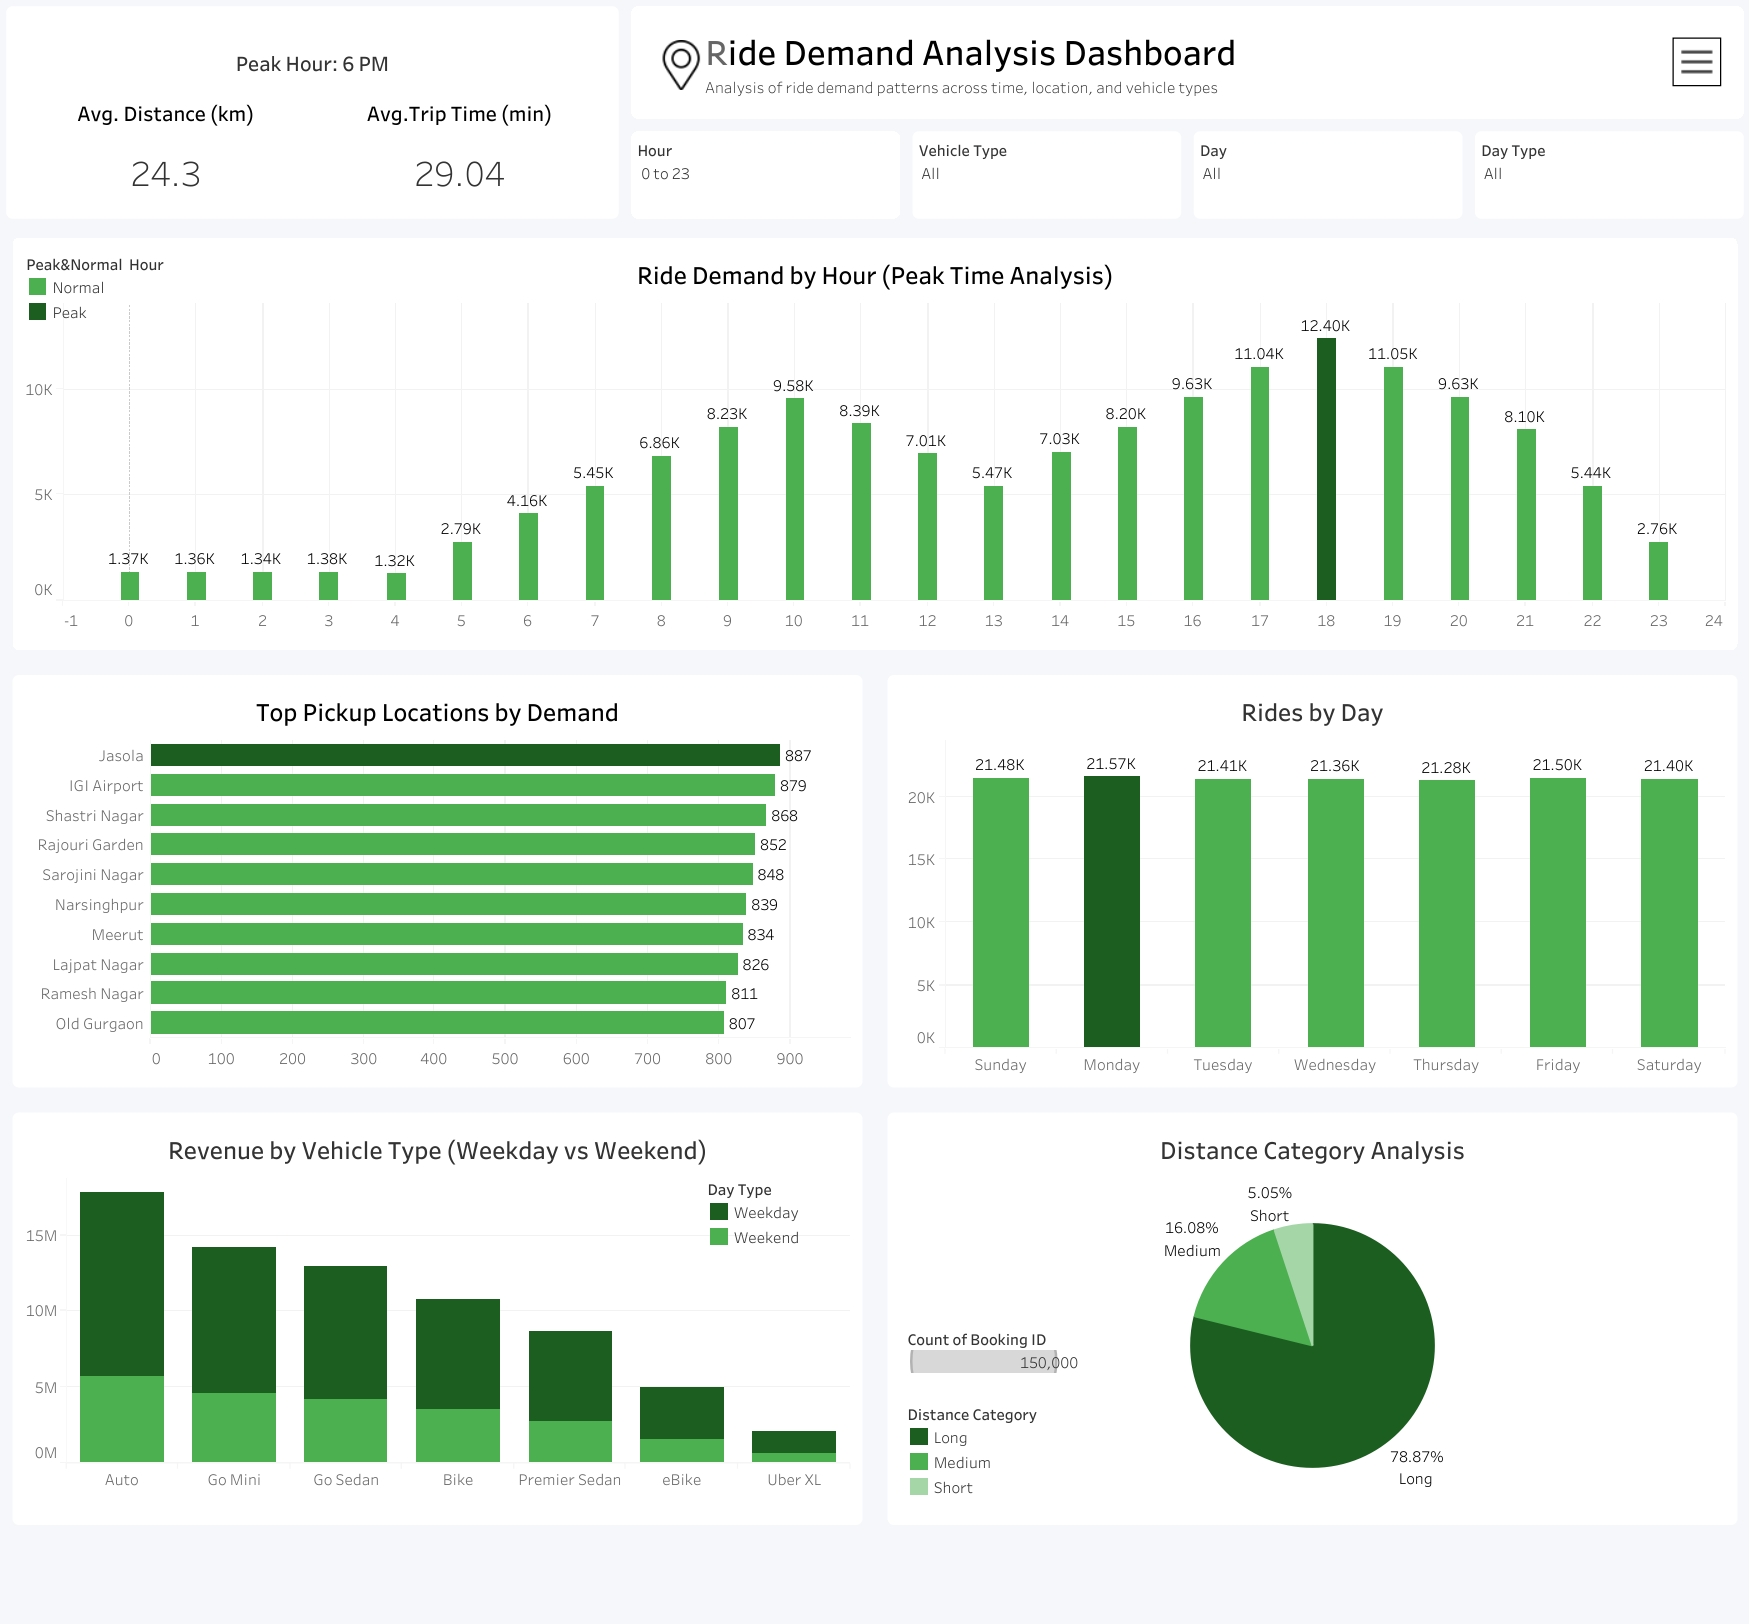

The dashboard page shown, as its layout file describes it:
{"tool":"tableau","page":{"name":"Ride Demand Analysis-D2","canvas":[1400,1300],"ordinal":2},"visuals":[{"type":"worksheet","title":"Dashboard2-KPIs","mark":"Automatic","cols":["Calculation_0510229824184323"],"box":[0,0,500,180]},{"type":"text","box":[500,0,900,100]},{"type":"image","param":"Image/pin.png","box":[520,27,50,50]},{"type":"dashboard-object","box":[1335,27,45,45]},{"type":"dashboard-object","box":[961,33,65,63]},{"type":"dashboard-object","box":[1026,33,303,63]},{"type":"dashboard-object","box":[961,96,65,62]},{"type":"dashboard-object","box":[1026,96,303,62]},{"type":"filter","title":"Rides by Hour-D2","param":"[federated.0se9qb00quoxq71br9lkd1jezced].[none:Hour:qk]","box":[500,100,225,80]},{"type":"filter","title":"Top Pickup Locations by Demand-D2","param":"[federated.0se9qb00quoxq71br9lkd1jezced].[none:Vehicle Type:nk]","box":[725,100,225,80]},{"type":"filter","title":"Rides by Day-D2","param":"[federated.0se9qb00quoxq71br9lkd1jezced].[none:Day:nk]","box":[950,100,225,80]},{"type":"filter","title":"Revenue by Vehicle Type (Weekday vs Weekend)-D2","param":"[federated.0se9qb00quoxq71br9lkd1jezced].[none:Day Type:nk]","box":[1175,100,225,80]},{"type":"dashboard-object","box":[961,158,65,62]},{"type":"dashboard-object","box":[1026,158,303,62]},{"type":"worksheet","title":"Rides by Hour-D2","mark":"Bar","rows":["Booking ID"],"cols":["Hour"],"box":[0,180,1400,350]},{"type":"legend","title":"Rides by Hour-D2","param":"[federated.0se9qb00quoxq71br9lkd1jezced].[none:Calculation_0510229820293122:nk]","box":[20,200,168,65]},{"type":"worksheet","title":"Top Pickup Locations by Demand-D2","mark":"Automatic","rows":["Pickup Location"],"cols":["Booking ID"],"box":[0,530,700,350]},{"type":"worksheet","title":"Rides by Day-D2","mark":"Bar","rows":["Booking ID"],"cols":["Day"],"box":[700,530,700,350]},{"type":"worksheet","title":"Revenue by Vehicle Type (Weekday vs Weekend)-D2","mark":"Automatic","rows":["Revenue (INR)"],"cols":["Vehicle Type"],"box":[0,880,700,350]},{"type":"worksheet","title":"Distance Category Analysis-D2","mark":"Pie","box":[700,880,700,350]},{"type":"legend","title":"Revenue by Vehicle Type (Weekday vs Weekend)-D2","param":"[federated.0se9qb00quoxq71br9lkd1jezced].[none:Day Type:nk]","box":[565,940,110,65]},{"type":"legend","title":"Distance Category Analysis-D2","param":"[federated.0se9qb00quoxq71br9lkd1jezced].[cnt:Booking ID:qk]","box":[725,1060,140,45]},{"type":"legend","title":"Distance Category Analysis-D2","param":"[federated.0se9qb00quoxq71br9lkd1jezced].[none:Distance Category:nk]","box":[725,1120,140,85]}]}

Visuals, with their boxes in screenshot pixels (x1, y1, x2, y2), scaled from the page's 1400x1300 canvas onto the 1749x1624 screenshot:
"Dashboard2-KPIs" worksheet: [x1=0, y1=0, x2=625, y2=225]
text: [x1=625, y1=0, x2=1748, y2=125]
image: [x1=650, y1=34, x2=712, y2=96]
dashboard-object: [x1=1668, y1=34, x2=1724, y2=90]
dashboard-object: [x1=1201, y1=41, x2=1282, y2=120]
dashboard-object: [x1=1282, y1=41, x2=1660, y2=120]
dashboard-object: [x1=1201, y1=120, x2=1282, y2=197]
dashboard-object: [x1=1282, y1=120, x2=1660, y2=197]
"Rides by Hour-D2" filter: [x1=625, y1=125, x2=906, y2=225]
"Top Pickup Locations by Demand-D2" filter: [x1=906, y1=125, x2=1187, y2=225]
"Rides by Day-D2" filter: [x1=1187, y1=125, x2=1468, y2=225]
"Revenue by Vehicle Type (Weekday vs Weekend)-D2" filter: [x1=1468, y1=125, x2=1748, y2=225]
dashboard-object: [x1=1201, y1=197, x2=1282, y2=275]
dashboard-object: [x1=1282, y1=197, x2=1660, y2=275]
"Rides by Hour-D2" worksheet (Bar marks): [x1=0, y1=225, x2=1748, y2=662]
"Rides by Hour-D2" legend: [x1=25, y1=250, x2=235, y2=331]
"Top Pickup Locations by Demand-D2" worksheet: [x1=0, y1=662, x2=874, y2=1099]
"Rides by Day-D2" worksheet (Bar marks): [x1=874, y1=662, x2=1748, y2=1099]
"Revenue by Vehicle Type (Weekday vs Weekend)-D2" worksheet: [x1=0, y1=1099, x2=874, y2=1537]
"Distance Category Analysis-D2" worksheet (Pie marks): [x1=874, y1=1099, x2=1748, y2=1537]
"Revenue by Vehicle Type (Weekday vs Weekend)-D2" legend: [x1=706, y1=1174, x2=843, y2=1255]
"Distance Category Analysis-D2" legend: [x1=906, y1=1324, x2=1081, y2=1380]
"Distance Category Analysis-D2" legend: [x1=906, y1=1399, x2=1081, y2=1505]
